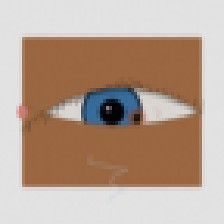foreign_body_visible: (113, 99, 161, 137)
